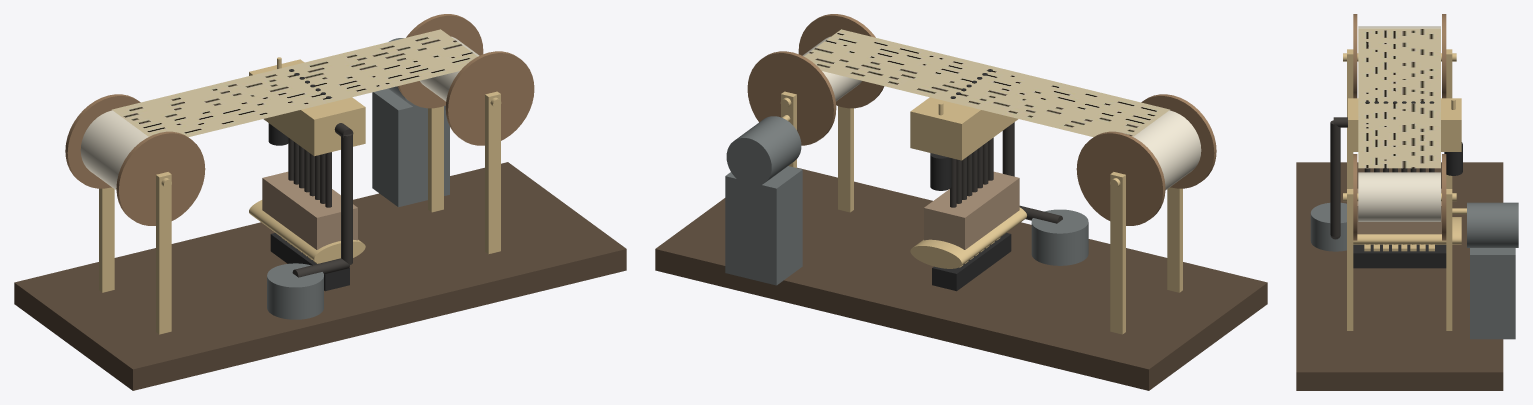
The model's file is mechanism.glb.
3 views of the same model, side by side, from view 1: azimuth 30°, elevation 25°; view 2: azimuth 150°, elevation 25°; view 3: azimuth 270°, elevation 25° (orthographic). The views are drawn at different scales.
Visible parts, largest first — view 1: base, record, motor_foot, supply_spool_flange_l, takeup_spool_flange_l, plunger_block, tracker, supply_spool_roll, pump, supply_spool_post_l, takeup_spool_post_l, takeup_spool_flange_r (+8 smaller); view 2: base, record, motor_foot, supply_spool_flange_r, takeup_spool_flange_r, plunger_block, tracker, motor, supply_spool_roll, pump, supply_spool_post_r, takeup_spool_flange_l (+8 smaller); view 3: base, record, motor_foot, takeup_spool_roll, motor, contact_rail, tracker, pump, tracker_crown, suction_pipe_v, plunger_block, takeup_spool_post_l (+9 smaller).
Boxes of the visible parts, bbox=[...] form: base: bbox=[14, 162, 626, 390]; record: bbox=[112, 29, 477, 137]; motor_foot: bbox=[372, 88, 449, 207]; supply_spool_flange_l: bbox=[116, 131, 205, 225]; takeup_spool_flange_l: bbox=[445, 51, 534, 145]; plunger_block: bbox=[262, 171, 357, 249]; tracker: bbox=[249, 59, 365, 156]; supply_spool_roll: bbox=[80, 110, 148, 190]; pump: bbox=[267, 263, 323, 319]; supply_spool_post_l: bbox=[156, 172, 171, 334]; takeup_spool_post_l: bbox=[485, 91, 500, 254]; takeup_spool_flange_r: bbox=[397, 14, 483, 108]; base: bbox=[655, 167, 1267, 390]; record: bbox=[804, 29, 1169, 137]; motor_foot: bbox=[725, 166, 802, 285]; supply_spool_flange_r: bbox=[1076, 131, 1165, 225]; takeup_spool_flange_r: bbox=[747, 51, 836, 145]; plunger_block: bbox=[924, 171, 1019, 249]; tracker: bbox=[910, 97, 1018, 160]; motor: bbox=[726, 116, 801, 186]; supply_spool_roll: bbox=[1133, 110, 1201, 190]; pump: bbox=[1031, 209, 1088, 265]; supply_spool_post_r: bbox=[1110, 172, 1125, 334]; takeup_spool_flange_l: bbox=[798, 14, 884, 108]; base: bbox=[1296, 162, 1503, 390]; record: bbox=[1358, 28, 1440, 168]; motor_foot: bbox=[1470, 248, 1515, 339]; takeup_spool_roll: bbox=[1358, 172, 1440, 221]; motor: bbox=[1467, 202, 1518, 247]; contact_rail: bbox=[1353, 244, 1446, 268]; tracker: bbox=[1348, 98, 1461, 151]; pump: bbox=[1310, 202, 1346, 251]; tracker_crown: bbox=[1353, 217, 1461, 244]; suction_pipe_v: bbox=[1330, 120, 1340, 236]; plunger_block: bbox=[1352, 188, 1446, 234]; takeup_spool_post_l: bbox=[1347, 189, 1353, 330].
Size of the model in its own units: 0.48 by 0.202 by 0.215.
Materials: 9 (1 with a texture image).
